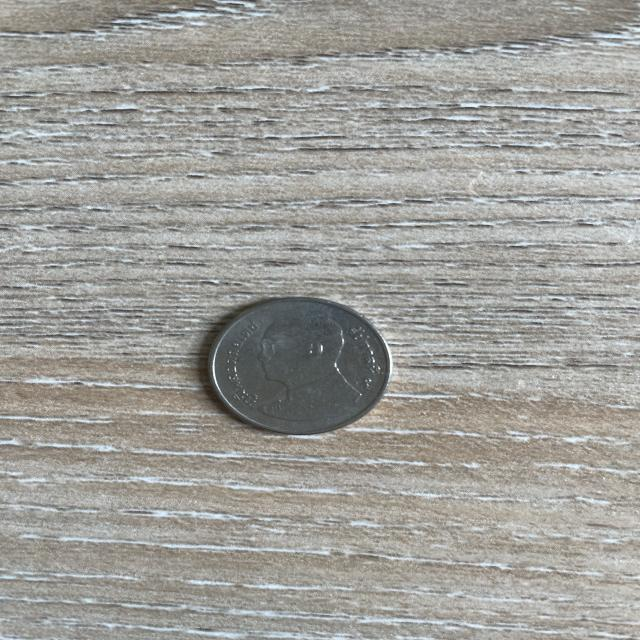1 Bath: (198, 289, 402, 441)
